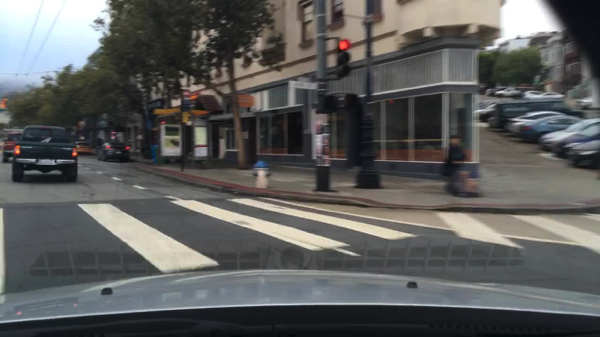car: (12, 125, 80, 182), (490, 100, 585, 125), (506, 110, 580, 137), (518, 116, 587, 141), (540, 119, 597, 149), (476, 99, 534, 120), (557, 124, 597, 154), (569, 138, 599, 165), (97, 141, 130, 162), (4, 129, 20, 163), (493, 87, 523, 97), (528, 92, 564, 100), (484, 86, 510, 97), (75, 141, 91, 154), (516, 91, 543, 97)
traffic light: (337, 39, 351, 78), (324, 95, 340, 112), (344, 92, 358, 110)
